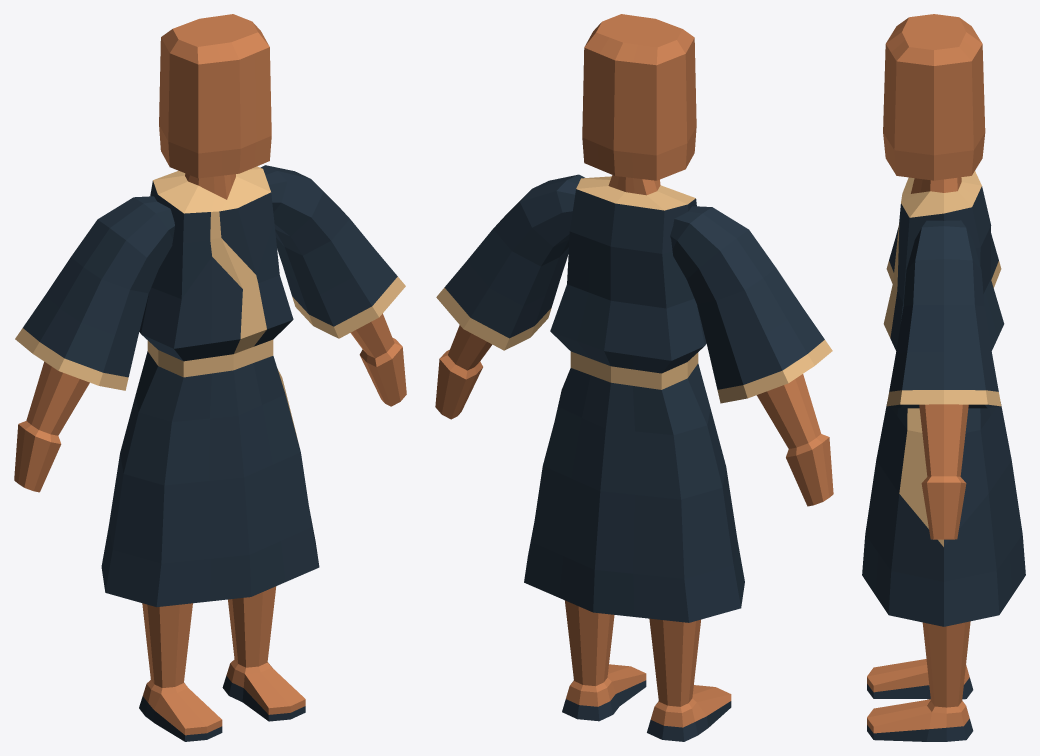
Rendered from SamuraiV1.fbx.
3 views of the same model, side by side, from view 1: azimuth 30°, elevation 25°; view 2: azimuth 150°, elevation 25°; view 3: azimuth 270°, elevation 25° (orthographic).
Visible parts, largest first — view 1: Player; view 2: Player; view 3: Player.
Boxes of the visible parts, left/top/right/bottom form: Player: left=14, top=14, right=406, bottom=741; Player: left=435, top=14, right=833, bottom=741; Player: left=862, top=14, right=1025, bottom=741.
Bounding box in the file's own units: 869 × 1458 × 319.
